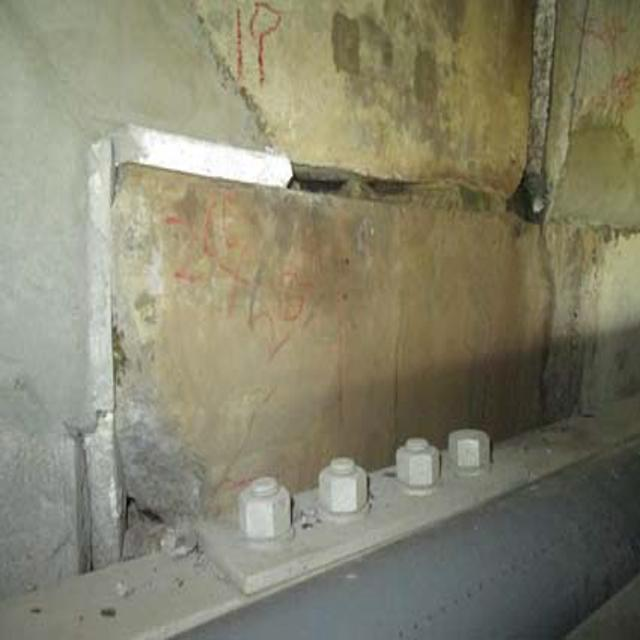crack: (283, 130, 551, 234)
